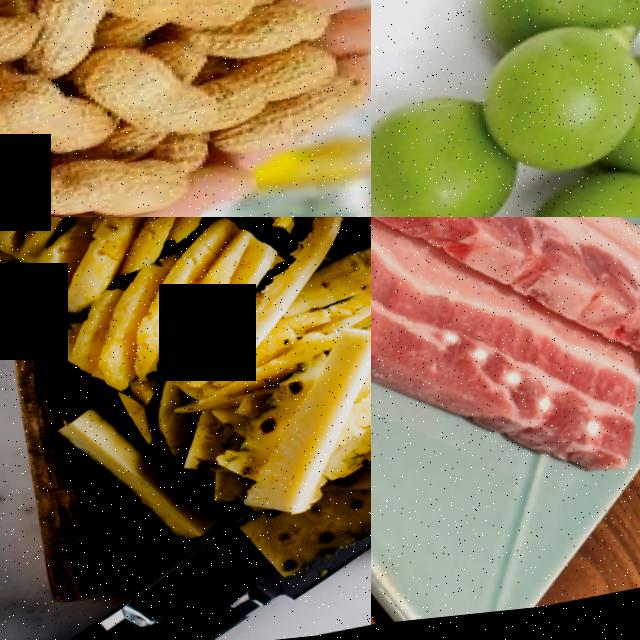peanuts: (7, 151, 183, 217), (68, 47, 179, 134), (204, 51, 334, 120), (99, 0, 244, 51), (23, 0, 110, 68), (0, 10, 33, 88)
peas: (371, 0, 640, 217)
pineapple: (46, 235, 287, 399)
pork belly: (371, 221, 518, 414), (497, 309, 640, 488), (570, 217, 640, 388), (449, 217, 584, 300)
